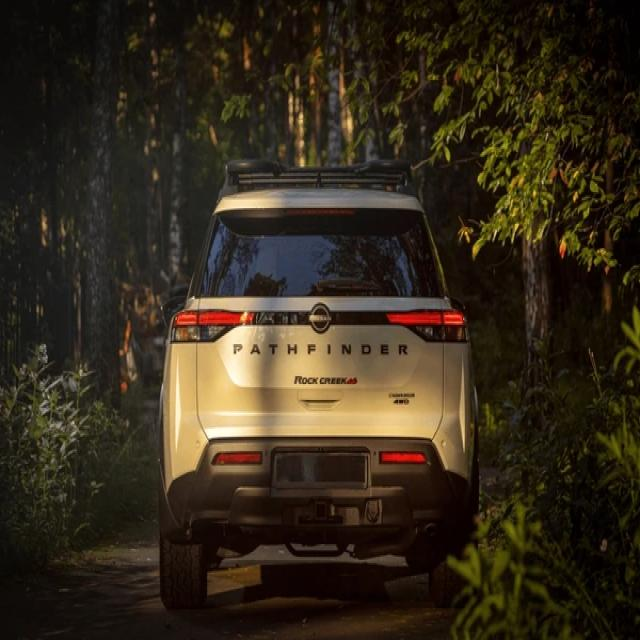nissan: (309, 302, 332, 334)
